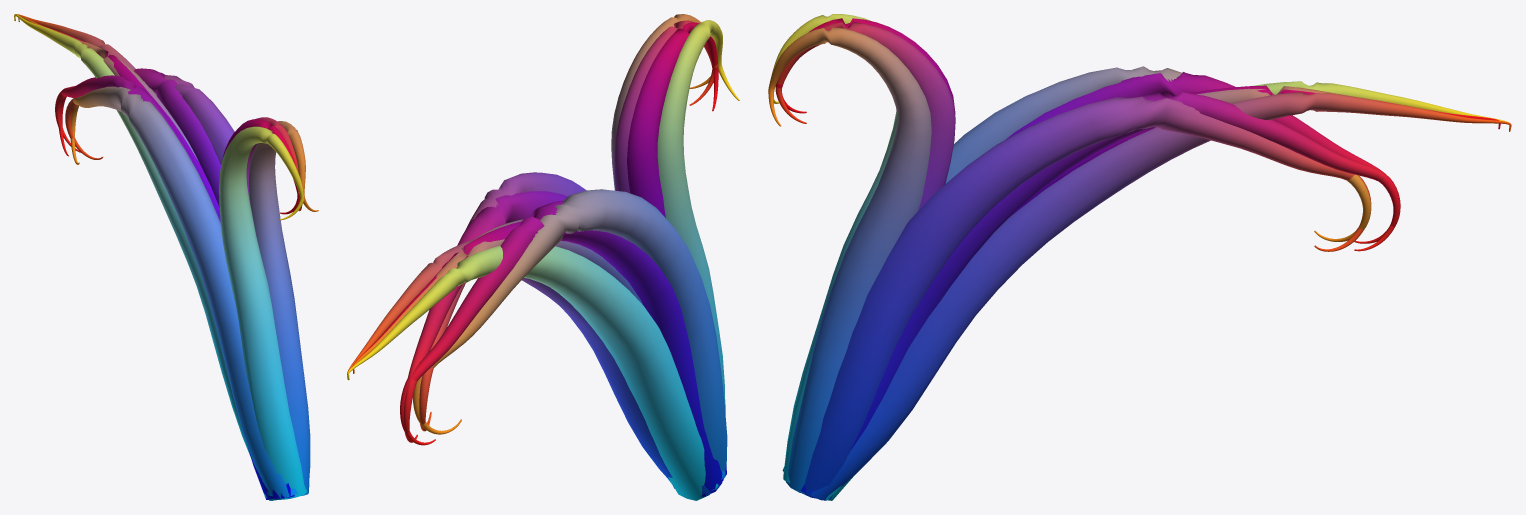
File: GateMultitude_v2.fbx
The picture shows the model from 3 angles, left to right: view 1: azimuth 30°, elevation 25°; view 2: azimuth 150°, elevation 25°; view 3: azimuth 270°, elevation 25°; orthographic projection. The views are drawn at different scales.
Visible parts, largest first — view 1: MU5_LOD0, MU3m_LOD0, MU5m_LOD0, MU0_LOD0, MU2_LOD0, MU3_LOD0, MU2m_LOD0, MU1_LOD0, MU1m_LOD0, MU4m_LOD0, MU0m_LOD0, MU4_LOD0; view 2: MU0_LOD0, MU3m_LOD0, MU2m_LOD0, MU5_LOD0, MU4m_LOD0, MU0m_LOD0, MU2_LOD0, MU3_LOD0, MU4_LOD0, MU1m_LOD0, MU5m_LOD0, MU1_LOD0; view 3: MU3_LOD0, MU0m_LOD0, MU5m_LOD0, MU2_LOD0, MU3m_LOD0, MU4_LOD0, MU2m_LOD0, MU5_LOD0, MU0_LOD0, MU1_LOD0, MU1m_LOD0, MU4m_LOD0.
Part boxes in pixels (x1,y1,x2,y2): MU5_LOD0: [219, 126, 307, 499]; MU3m_LOD0: [70, 86, 297, 500]; MU5m_LOD0: [249, 121, 318, 496]; MU0_LOD0: [14, 14, 273, 500]; MU2_LOD0: [55, 68, 267, 491]; MU3_LOD0: [65, 75, 234, 165]; MU2m_LOD0: [58, 75, 272, 499]; MU1_LOD0: [19, 16, 271, 497]; MU1m_LOD0: [18, 15, 267, 498]; MU4m_LOD0: [221, 119, 300, 498]; MU0m_LOD0: [15, 14, 266, 498]; MU4_LOD0: [246, 117, 302, 211]; MU0_LOD0: [347, 245, 706, 500]; MU3m_LOD0: [413, 189, 727, 478]; MU2m_LOD0: [400, 200, 722, 496]; MU5_LOD0: [657, 20, 739, 490]; MU4m_LOD0: [627, 22, 726, 476]; MU0m_LOD0: [347, 240, 711, 497]; MU2_LOD0: [403, 191, 722, 474]; MU3_LOD0: [419, 172, 674, 488]; MU4_LOD0: [614, 20, 718, 193]; MU1m_LOD0: [353, 219, 719, 496]; MU5m_LOD0: [611, 14, 725, 479]; MU1_LOD0: [352, 221, 723, 482]; MU3_LOD0: [802, 96, 1371, 499]; MU0m_LOD0: [810, 92, 1511, 500]; MU5m_LOD0: [768, 27, 931, 493]; MU2_LOD0: [800, 92, 1400, 499]; MU3m_LOD0: [782, 66, 1371, 471]; MU4_LOD0: [775, 22, 955, 493]; MU2m_LOD0: [1005, 72, 1400, 243]; MU5_LOD0: [770, 14, 897, 483]; MU0_LOD0: [825, 81, 1509, 500]; MU1_LOD0: [1012, 85, 1500, 214]; MU1m_LOD0: [993, 85, 1487, 233]; MU4m_LOD0: [776, 18, 955, 114].
Size of what is drawn, in the model's own units: 210 by 907 by 1281.
